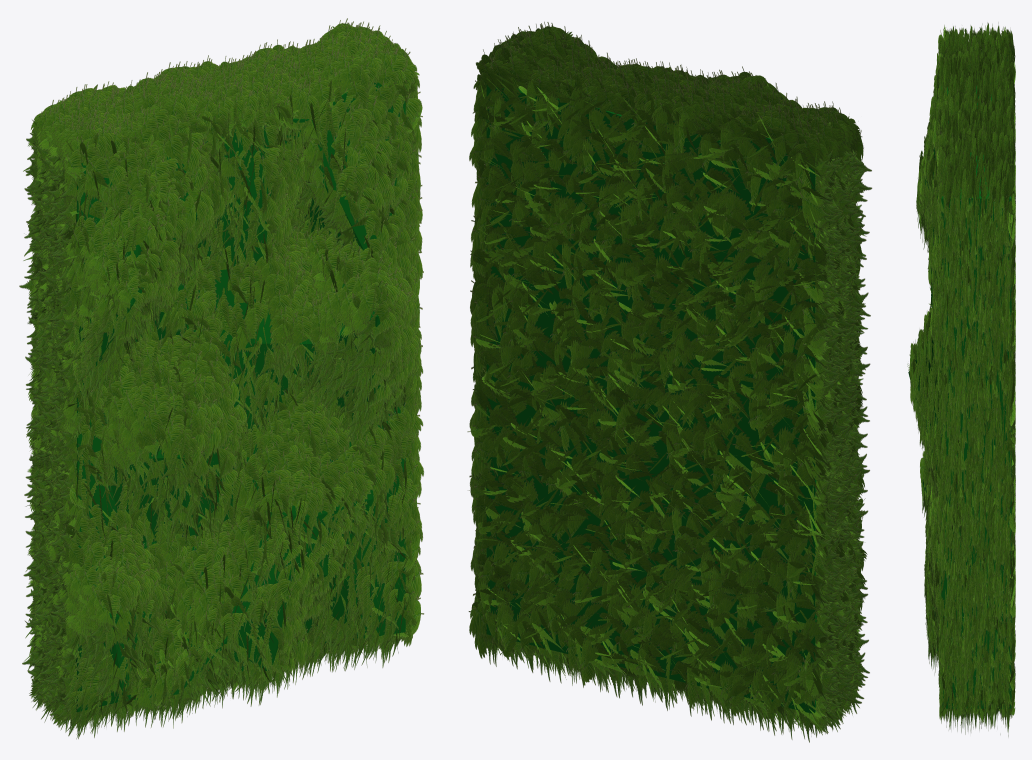
The model's file is Hedge 2.glb.
3 views of the same model, side by side, from view 1: azimuth 30°, elevation 25°; view 2: azimuth 150°, elevation 25°; view 3: azimuth 270°, elevation 25° (orthographic). The views are drawn at different scales.
Visible parts, largest first — view 1: Cube; view 2: Cube; view 3: Cube.
Part boxes in pixels (bbox=[...]): Cube: bbox=[19, 18, 423, 738]; Cube: bbox=[467, 21, 872, 742]; Cube: bbox=[907, 22, 1015, 736].
Size of the model in its own units: 11.7 by 19.13 by 3.18.
2 materials, 1 textured.
